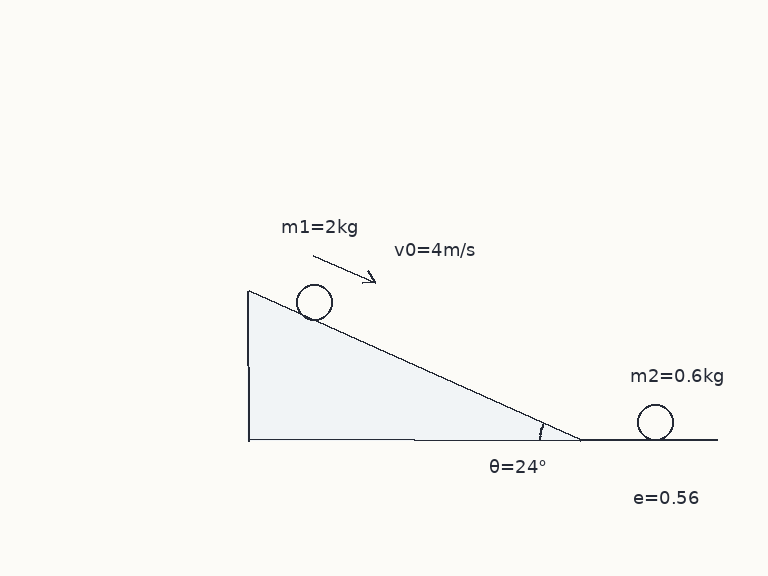ball: (294, 282, 334, 322), (635, 402, 675, 442)
ramp: (245, 290, 582, 442)
